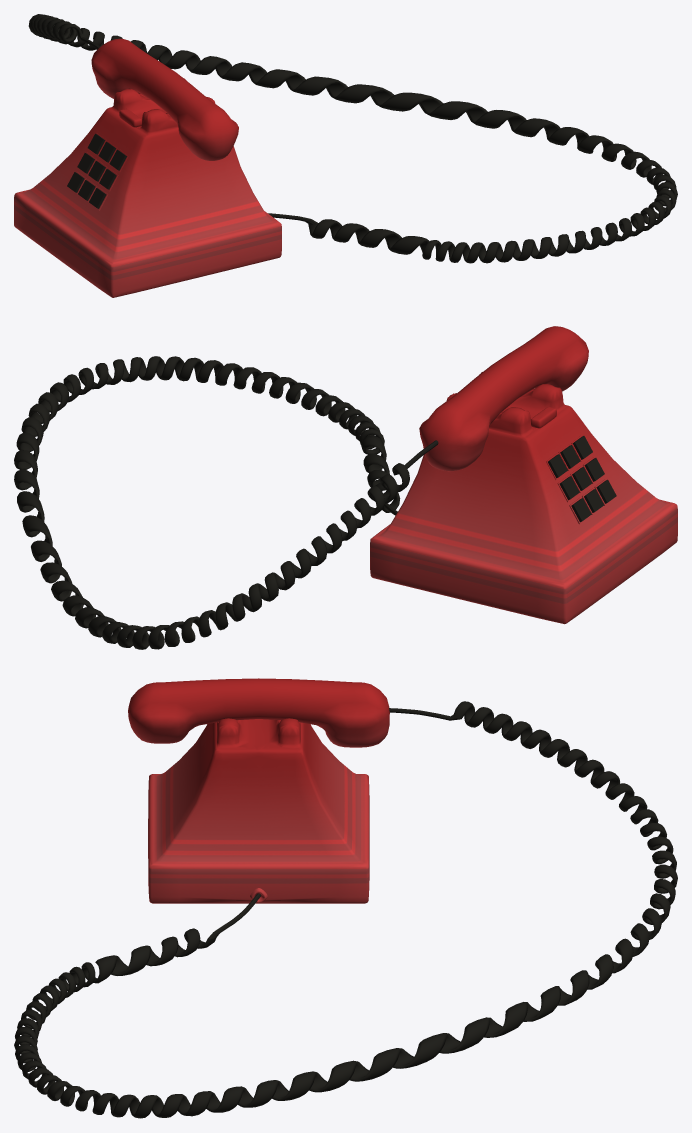
File: telephone.fbx
3 views of the same model, one above another, from view 1: azimuth 30°, elevation 25°; view 2: azimuth 150°, elevation 25°; view 3: azimuth 270°, elevation 25° (orthographic). The views are drawn at different scales.
Parts seen in each view (by area): view 1: phone_box, wire, phone_handle; view 2: phone_box, wire, phone_handle; view 3: phone_box, wire, phone_handle.
Boxes of the visible parts, box(x1,y1,x2,y2) form: phone_box: box(14, 78, 281, 297); wire: box(28, 14, 677, 263); phone_handle: box(91, 38, 238, 160); phone_box: box(370, 372, 677, 624); wire: box(14, 356, 438, 649); phone_handle: box(419, 326, 588, 471); phone_box: box(148, 718, 369, 903); wire: box(14, 701, 677, 1118); phone_handle: box(128, 678, 389, 747).
Bounding box in the file's own units: 25.03 × 7.84 × 23.58.
3 materials, 2 textured.
